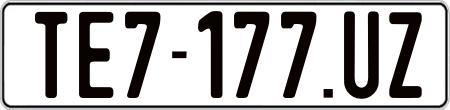1: (198, 8, 223, 97)
7: (278, 11, 319, 101), (233, 11, 272, 99), (122, 12, 160, 101)
E: (77, 12, 111, 101)
T: (33, 11, 66, 101)
U: (343, 8, 379, 96)
Z: (387, 9, 424, 99)
